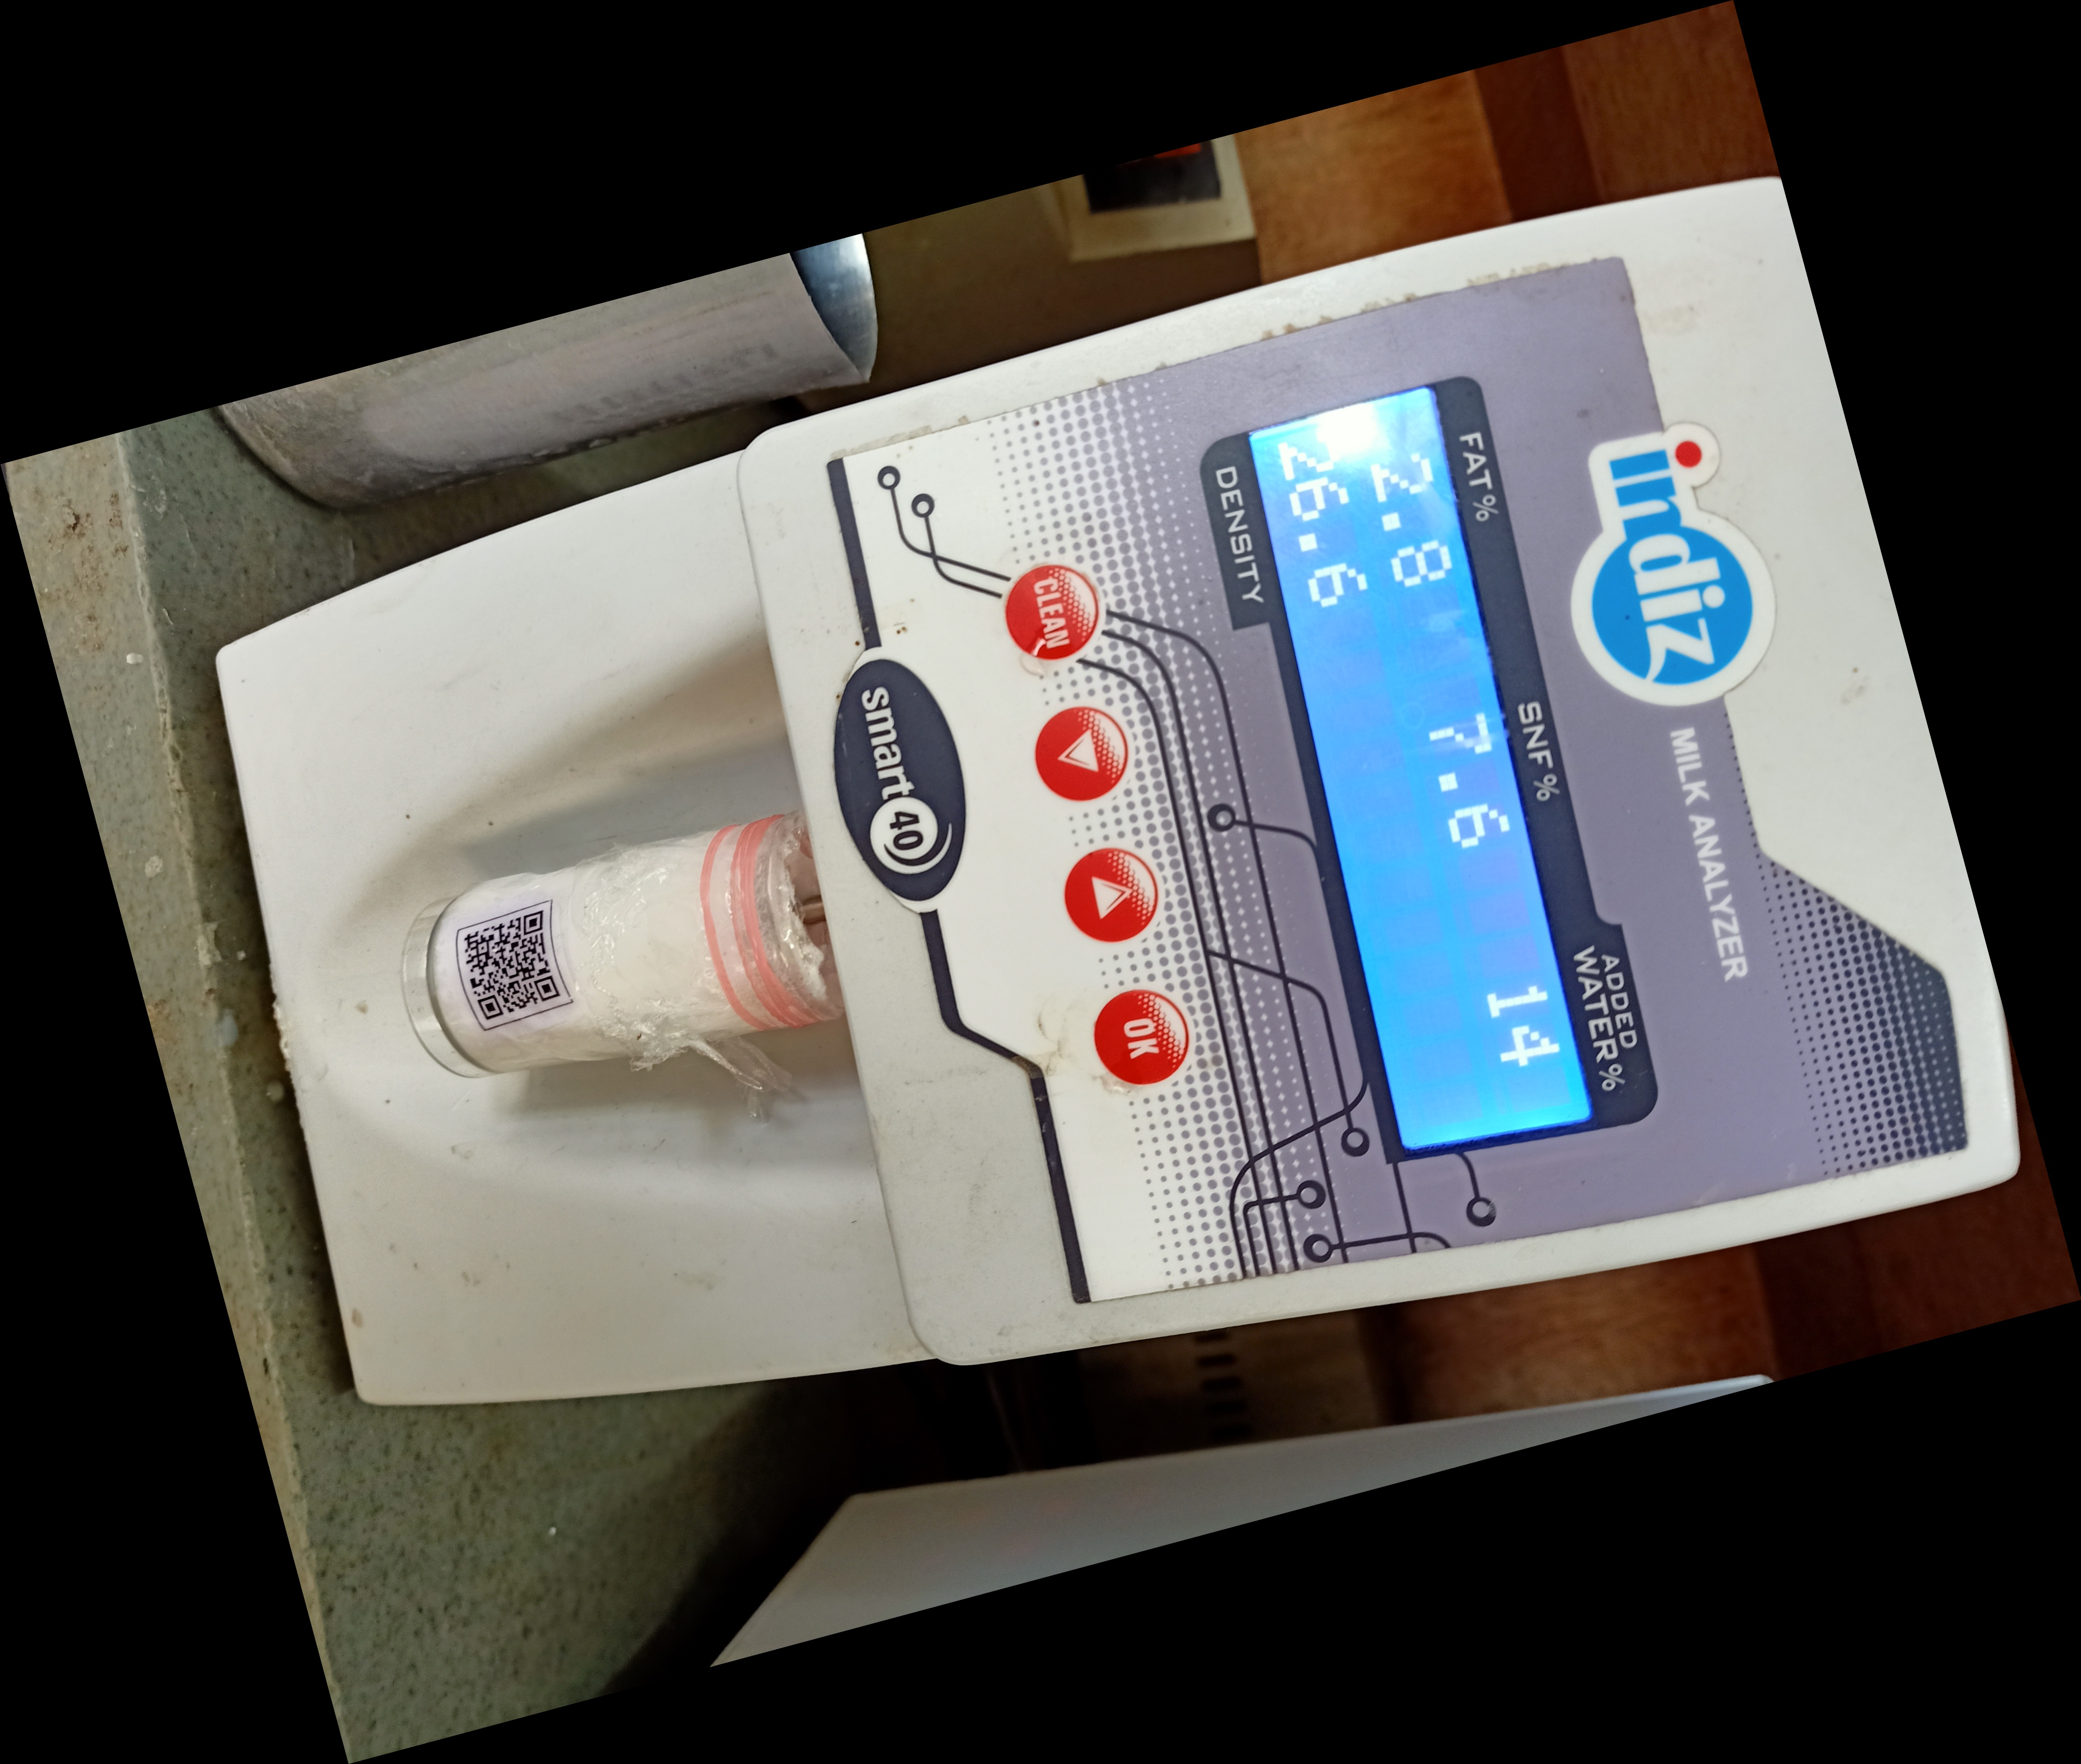lcd: (1218, 355, 1670, 1162)
